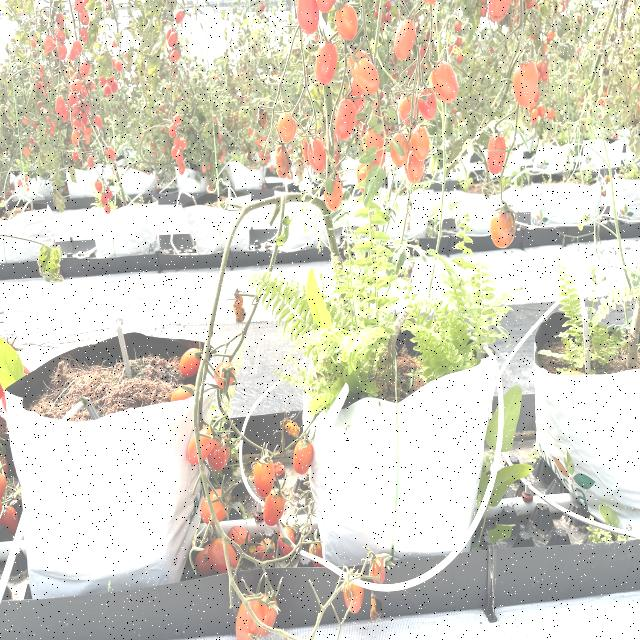Soilbag: (10, 332, 232, 603), (296, 323, 498, 572), (534, 313, 636, 535)
plant: (179, 12, 473, 640)
